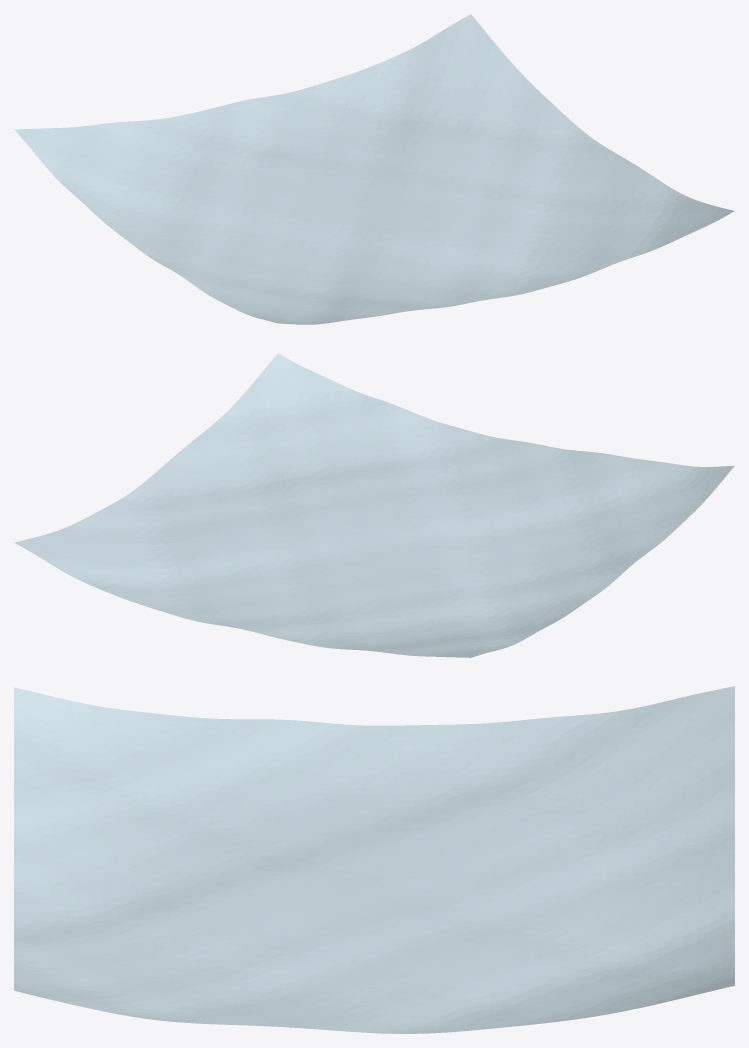
Rendered from MB_SandFloor.fbx.
The picture shows the model from 3 angles, top to bottom: view 1: azimuth 30°, elevation 25°; view 2: azimuth 150°, elevation 25°; view 3: azimuth 270°, elevation 25°; orthographic projection. The views are drawn at different scales.
Parts seen in each view (by area): view 1: SandFloor; view 2: SandFloor; view 3: SandFloor.
Boxes of the visible parts, <box> form: SandFloor: <box>14,14,734,324</box>; SandFloor: <box>14,353,734,657</box>; SandFloor: <box>14,686,734,1033</box>.
Size of the model in its own units: 800 by 73.9 by 800.
